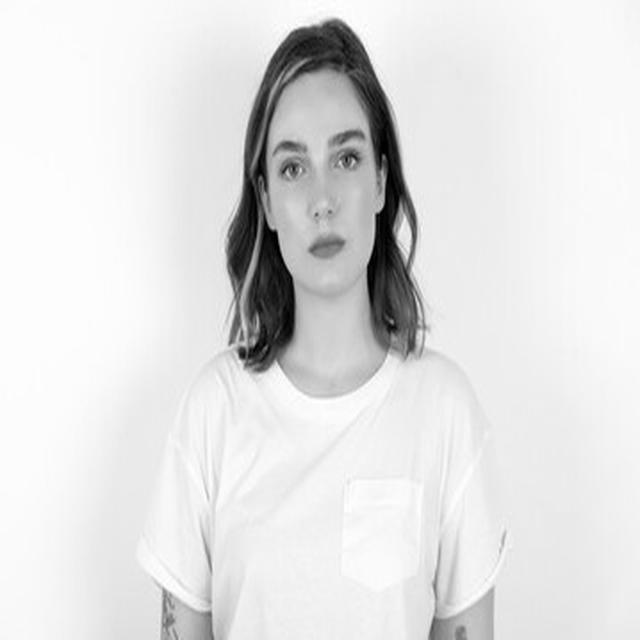Neutral: (267, 69, 376, 296)
